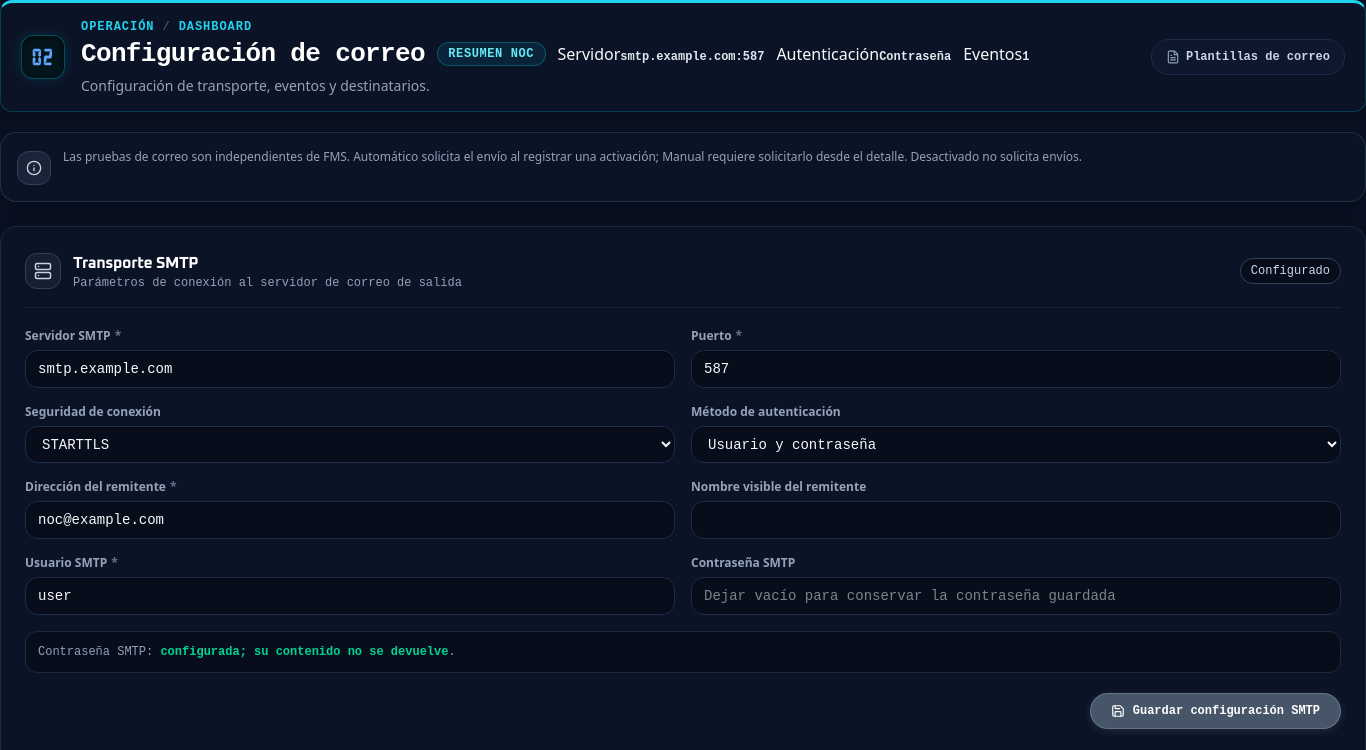
Scenario: Notificaciones por correo: solo configuración › conserva la credencial guardada al actualizar otros parámetros
The image size is (1366, 750).
Expected: the form named "Configuración SMTP" is shown, [25,328,1341,729]
Expected: the password field labelled "Contraseña SMTP" is empty, [691,577,1341,615]
Type "NOC" into the field labelled "Nombre visible del remitente" at (1016, 520), box [691,501,1341,539]
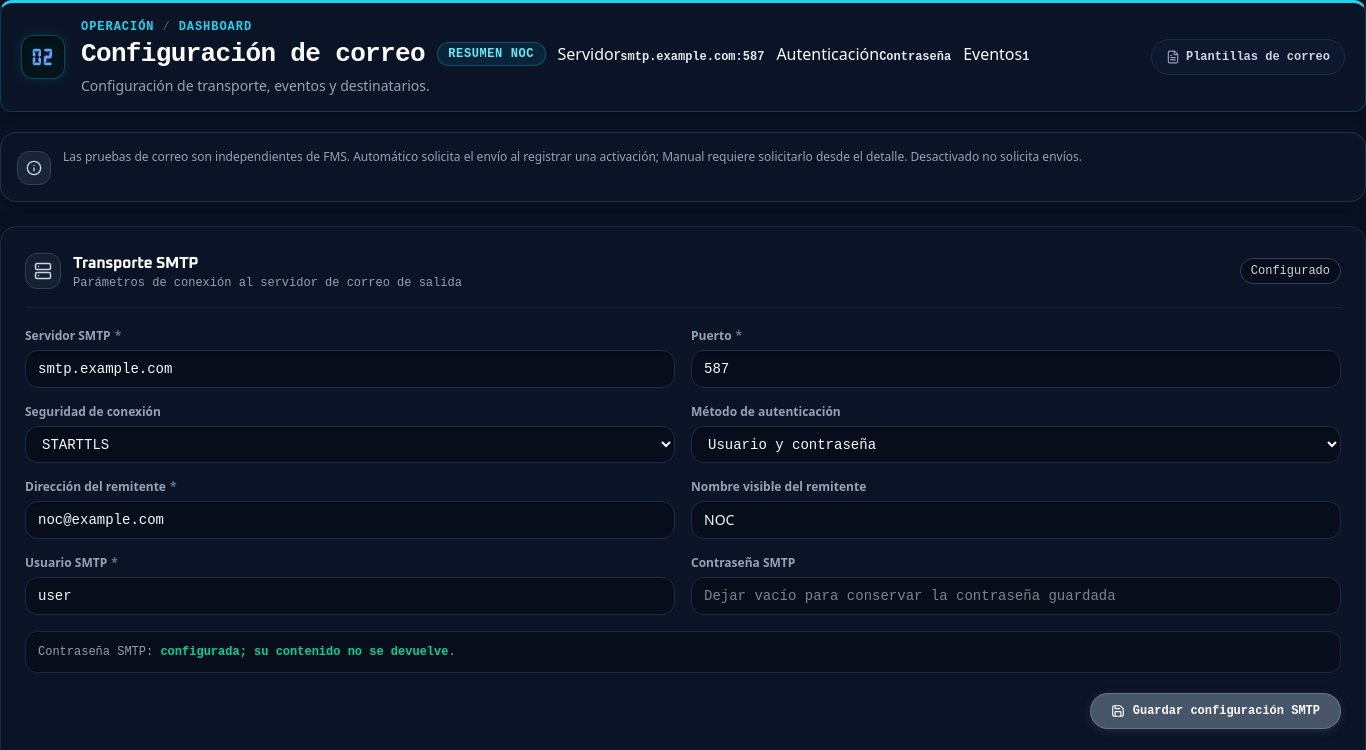
Click the button "Guardar configuración SMTP" at (1215, 711), box [1090,693,1341,729]
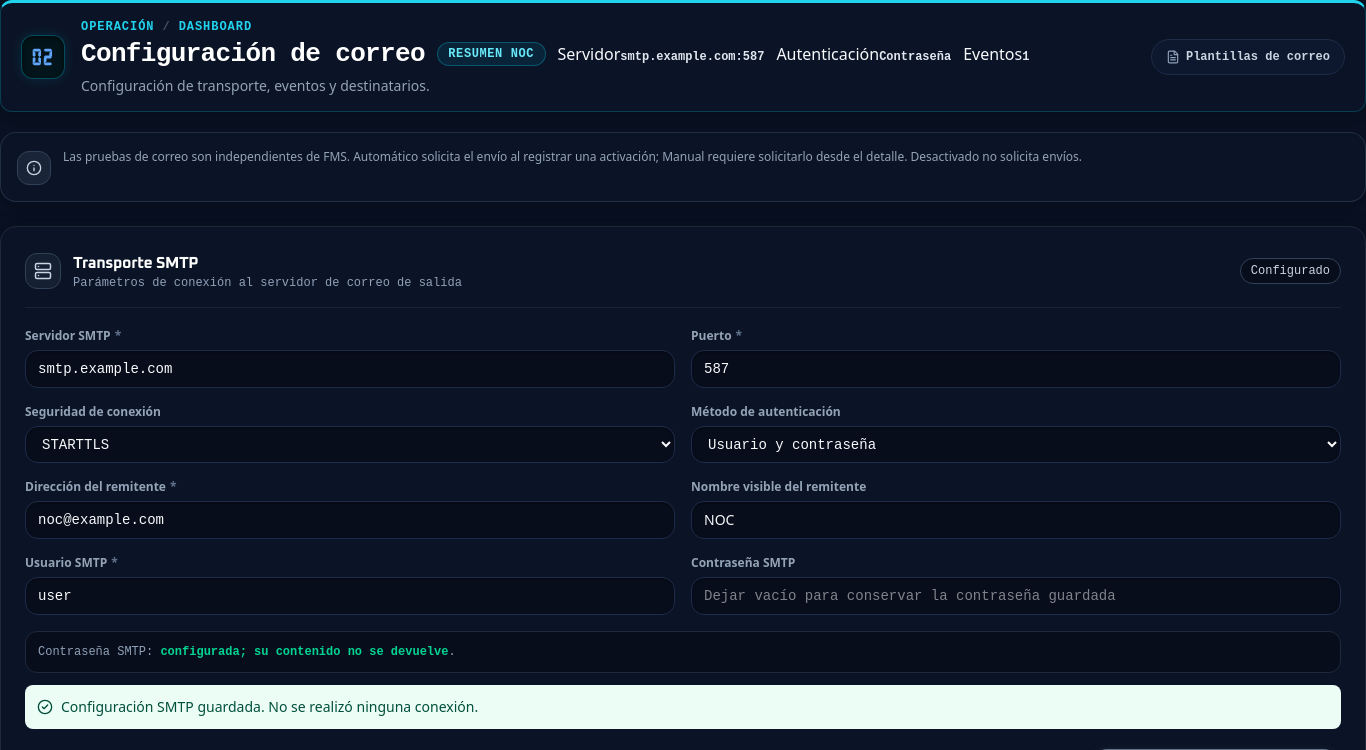
Result: the text "Configuración SMTP guardada. No se realizó ninguna conexión." is shown at [61,697,478,717]
